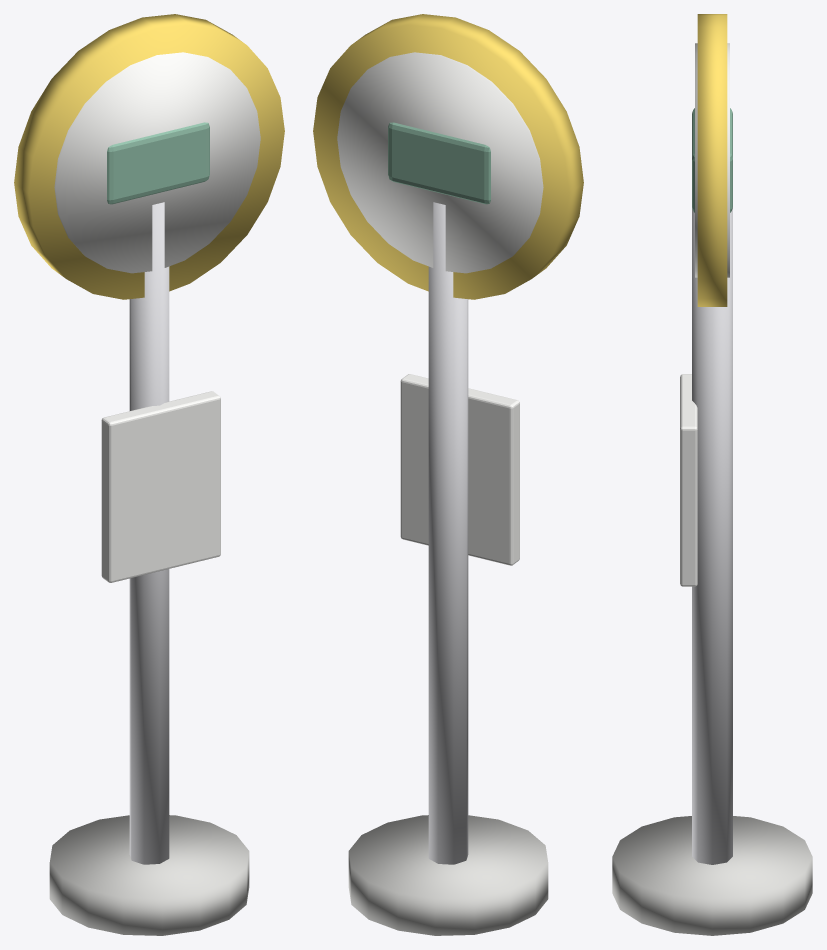
Rendered from bus_sign.glb.
The picture shows the model from 3 angles, left to right: view 1: azimuth 30°, elevation 25°; view 2: azimuth 150°, elevation 25°; view 3: azimuth 270°, elevation 25°; orthographic projection.
Visible parts, largest first — view 1: bus_sign; view 2: bus_sign; view 3: bus_sign.
Part boxes in pixels (<box>): bus_sign: <box>14,14,284,935</box>; bus_sign: <box>313,14,583,935</box>; bus_sign: <box>612,14,812,935</box>.
Size of the model in its own units: 1 by 3.25 by 0.68.
